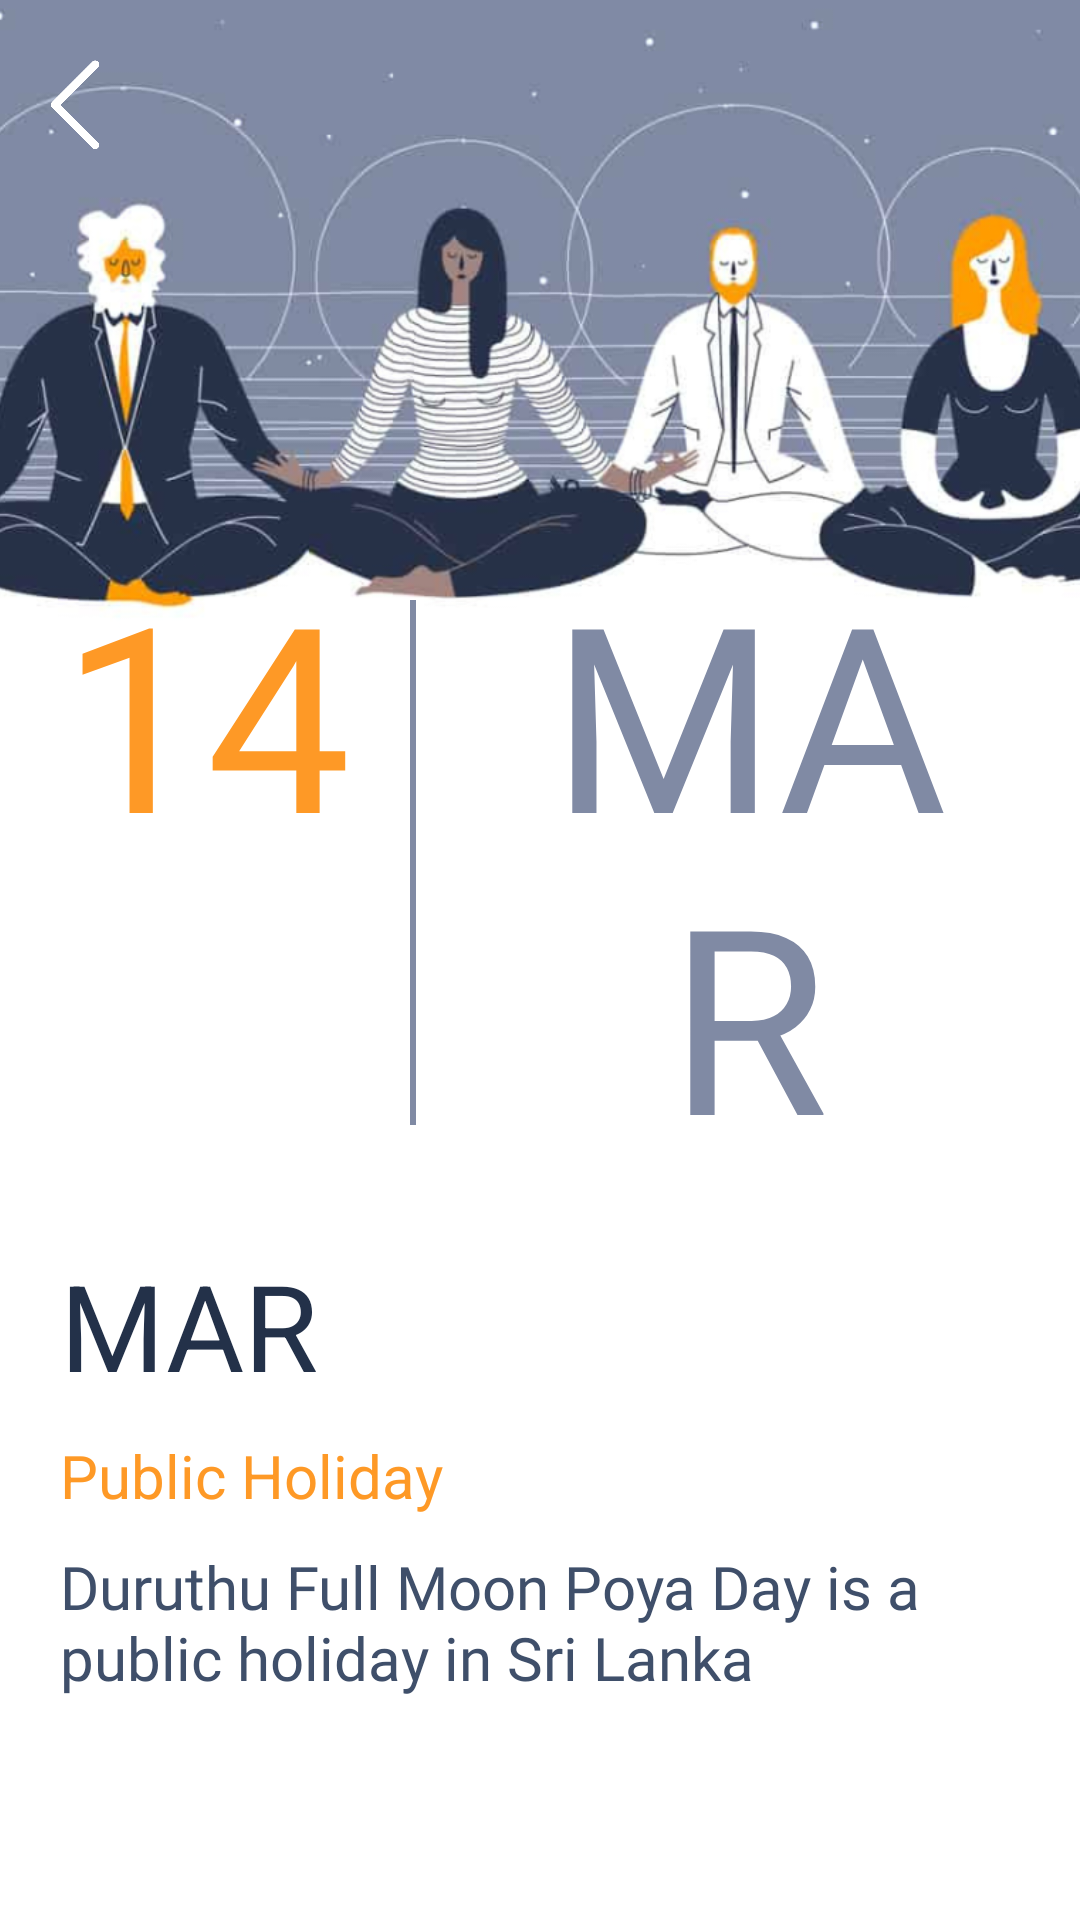

Icon bounding boxes for this 1080 x 1920 phone screenshot, format (x1, y1, x2, y2):
backk: (30, 60, 120, 149)
